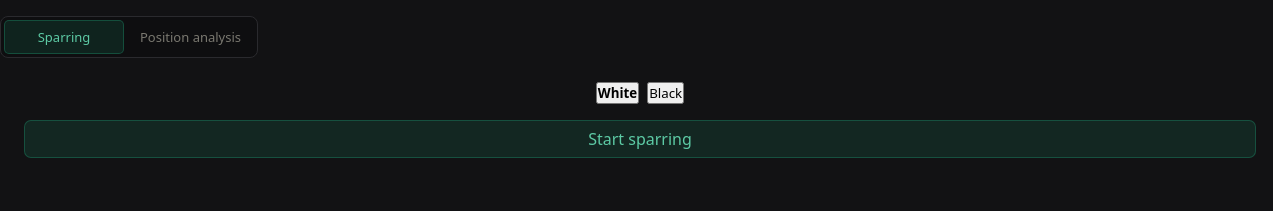
Scenario: SparringMode › shows an error message when fetching the next position fails
Click the button "Start sparring" at [640, 139], box left=24, top=120, right=1256, bottom=158
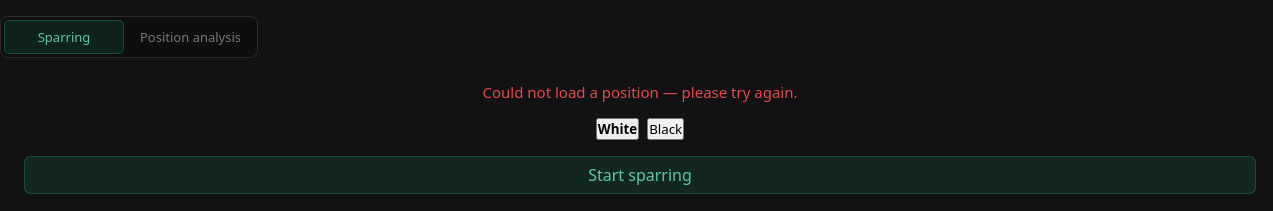
Expected: the text "Could not load a position — please try again." is shown, left=482, top=82, right=798, bottom=102
